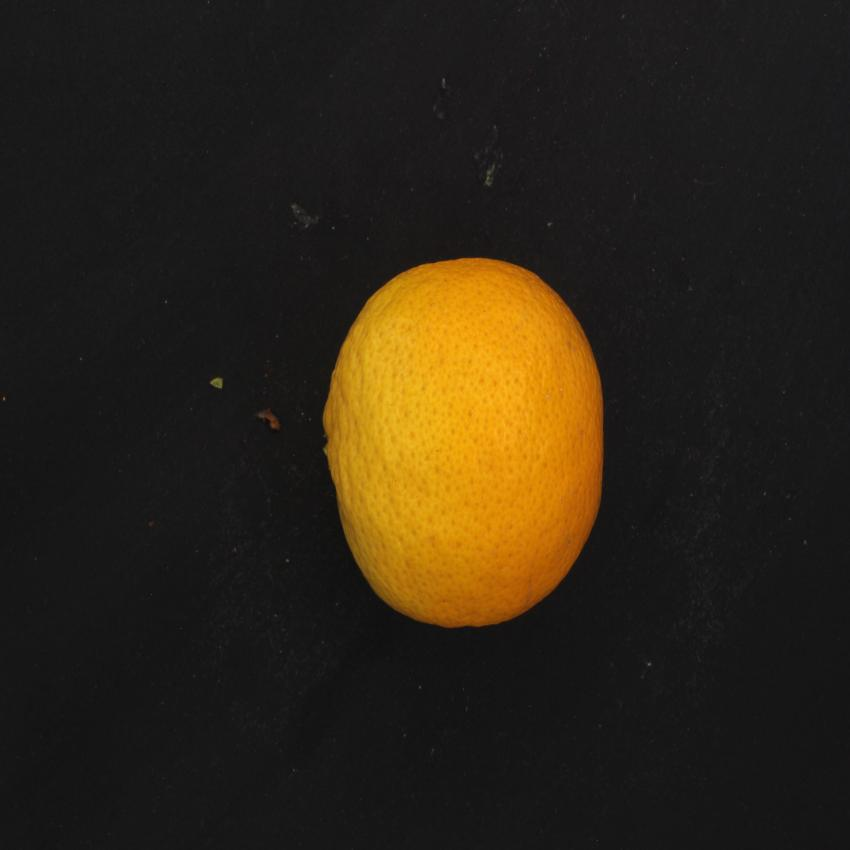Buen estado: (314, 246, 612, 642)
